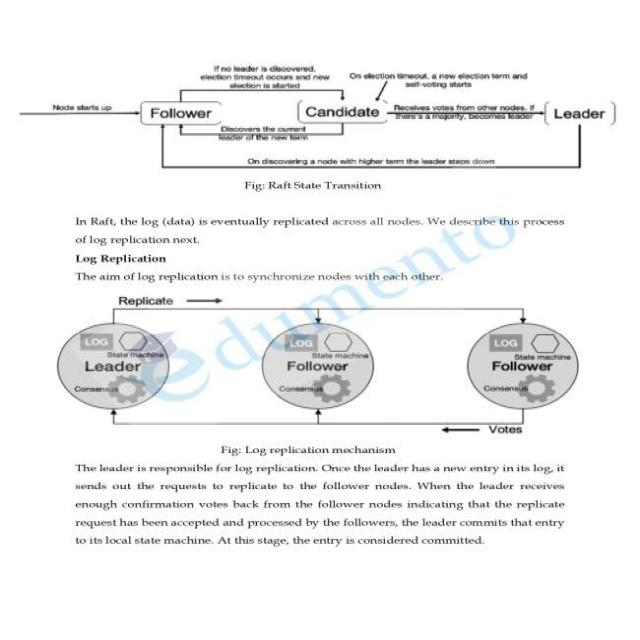Figure Detection - v3 Dataset Version2: (10, 35, 624, 204), (35, 288, 589, 443)
